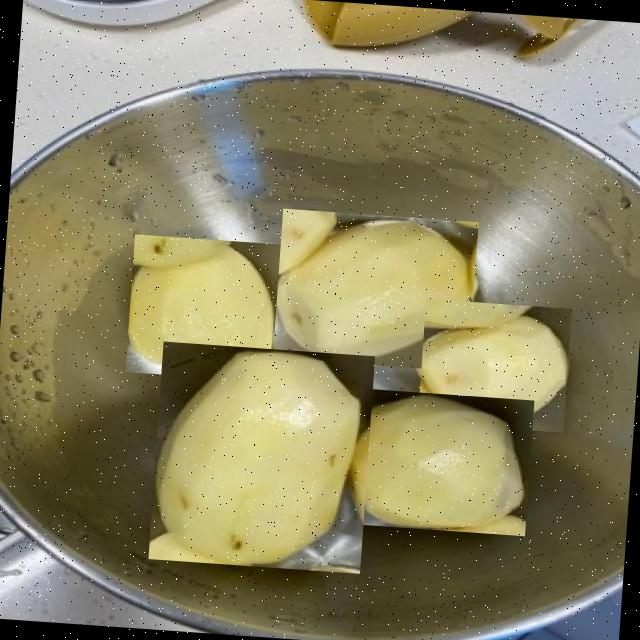Potato: (147, 340, 374, 572), (272, 207, 478, 370), (340, 386, 533, 535), (124, 233, 281, 381), (416, 297, 570, 431)
